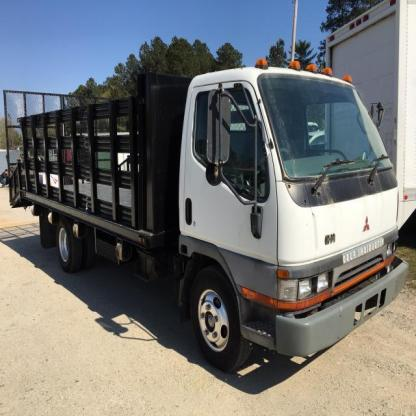truck: (4, 55, 409, 374)
